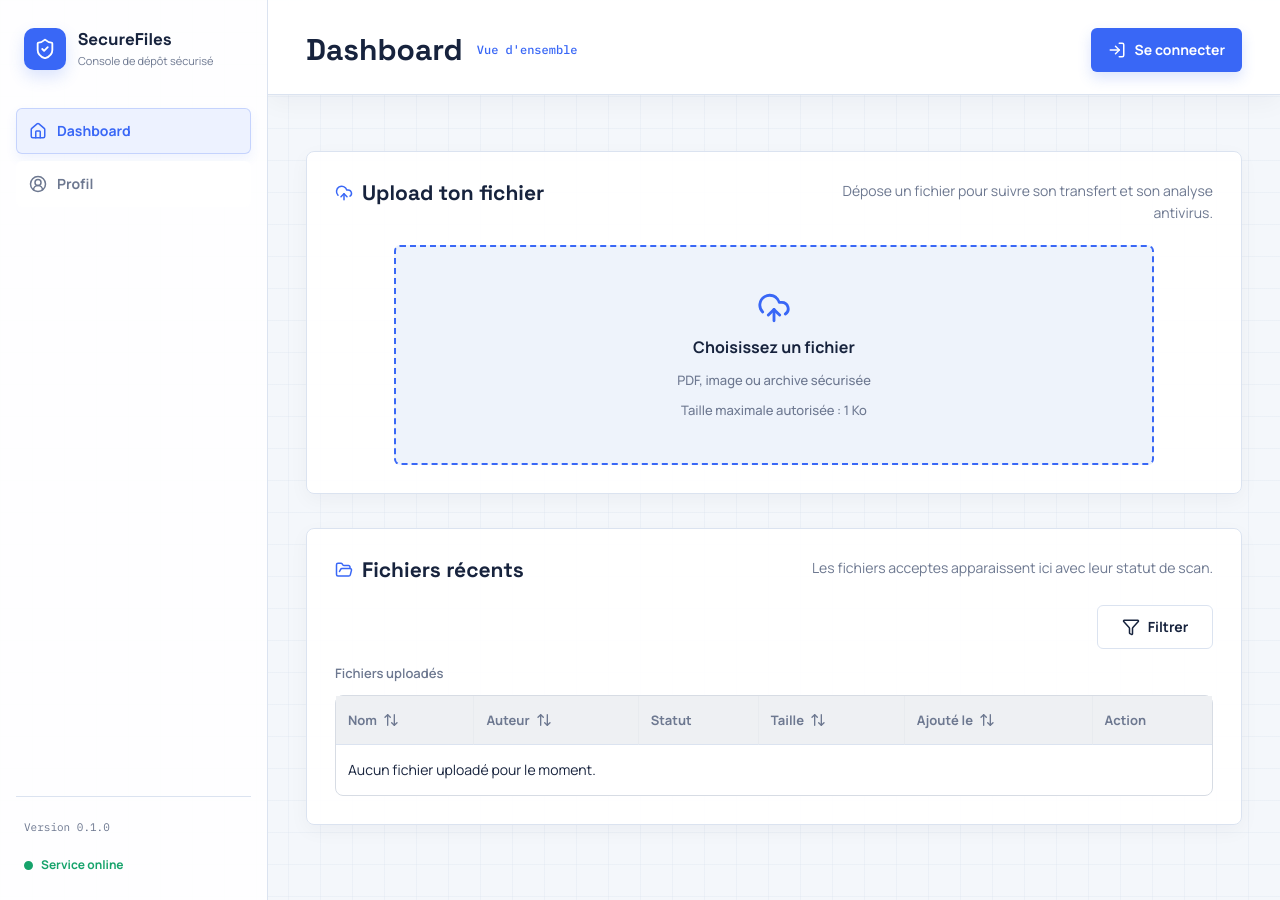
Test case: App › opens the profile page from the primary navigation
Step 1. Click the link "Profil" → {"x": 134, "y": 184}, box [16,161,251,207]
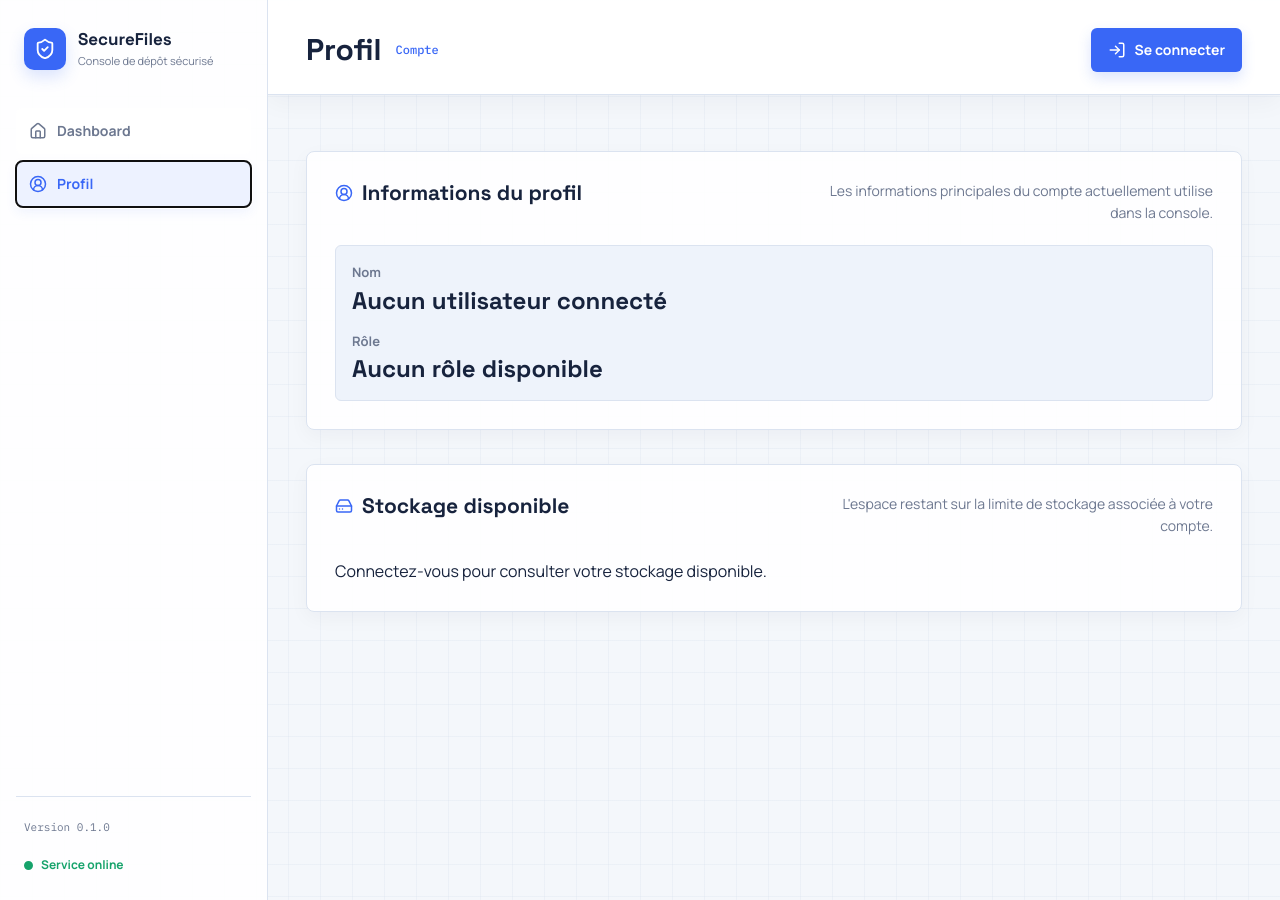
Result: the heading "Profil" is shown at [306,33,382,67]
Result: the heading "Informations du profil" is shown at [362,180,582,205]
